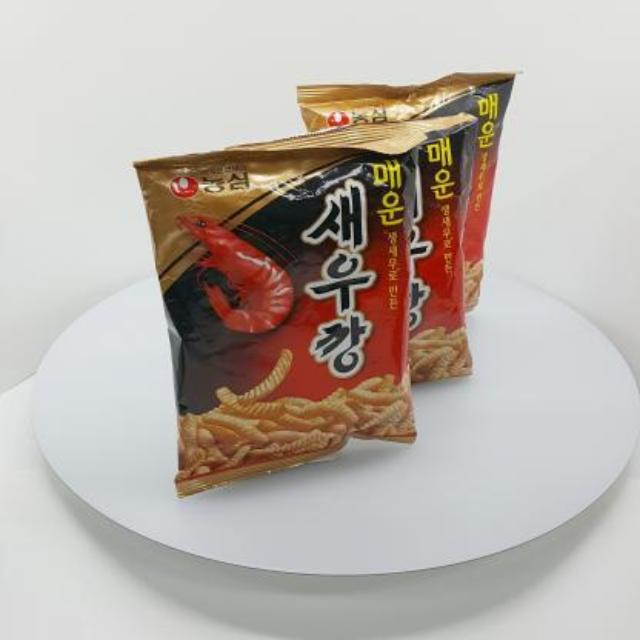snack_bag: (124, 62, 528, 504)
